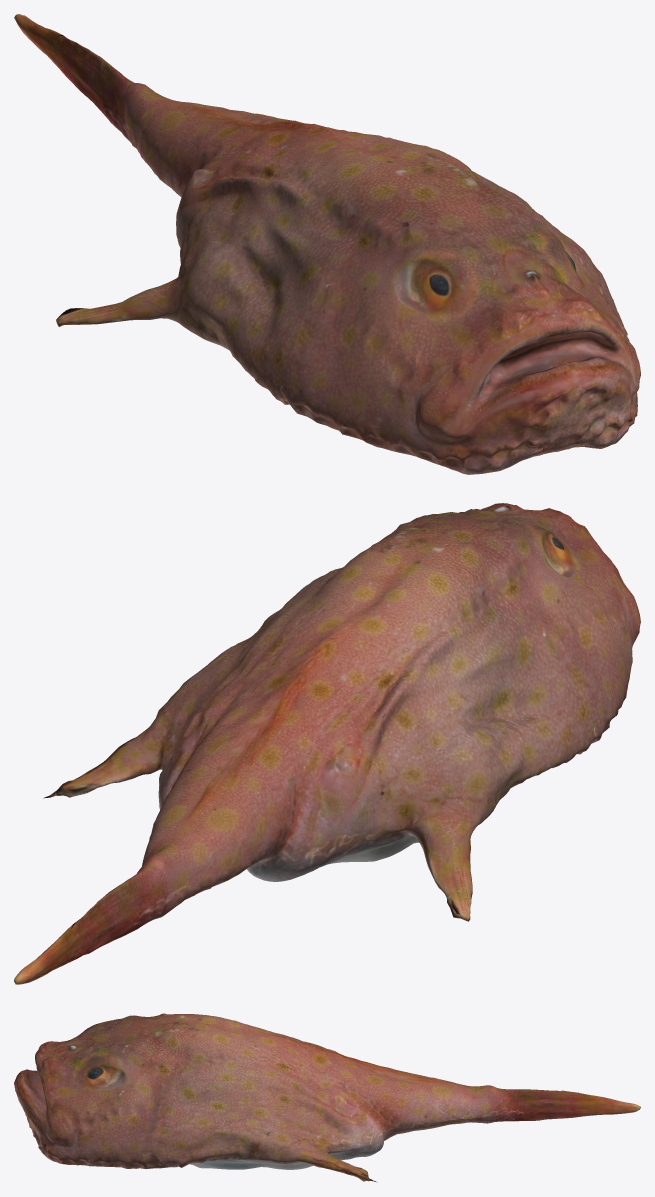
Rendered from sea_toad.glb.
3 renders of one model, top to bottom at view 1: azimuth 30°, elevation 25°; view 2: azimuth 150°, elevation 25°; view 3: azimuth 270°, elevation 25°, orthographic. The views are drawn at different scales.
Visible parts, largest first — view 1: sea_toad; view 2: sea_toad; view 3: sea_toad.
Boxes of the visible parts, x1,y1,x2,y2 form: sea_toad: (14, 14, 640, 474); sea_toad: (14, 503, 640, 984); sea_toad: (14, 1013, 640, 1181).
Size of the model in its own units: 0.108 by 0.0598 by 0.25.
Materials: 1 (1 with a texture image).
